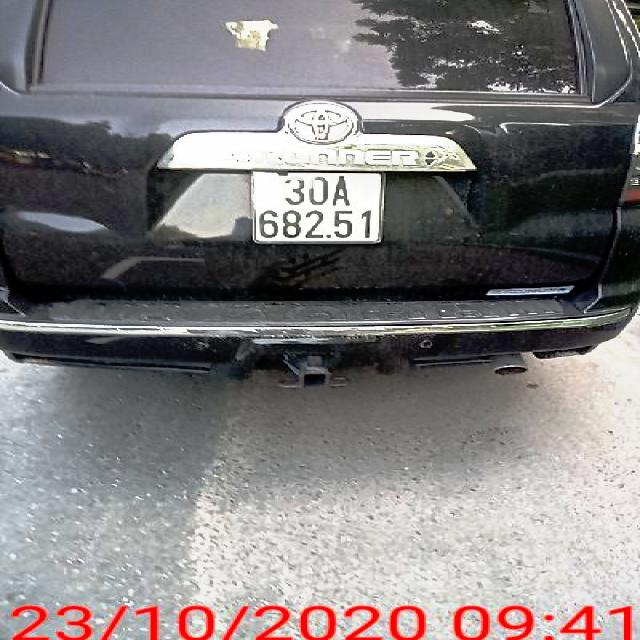license_plate: (255, 171, 383, 244)
